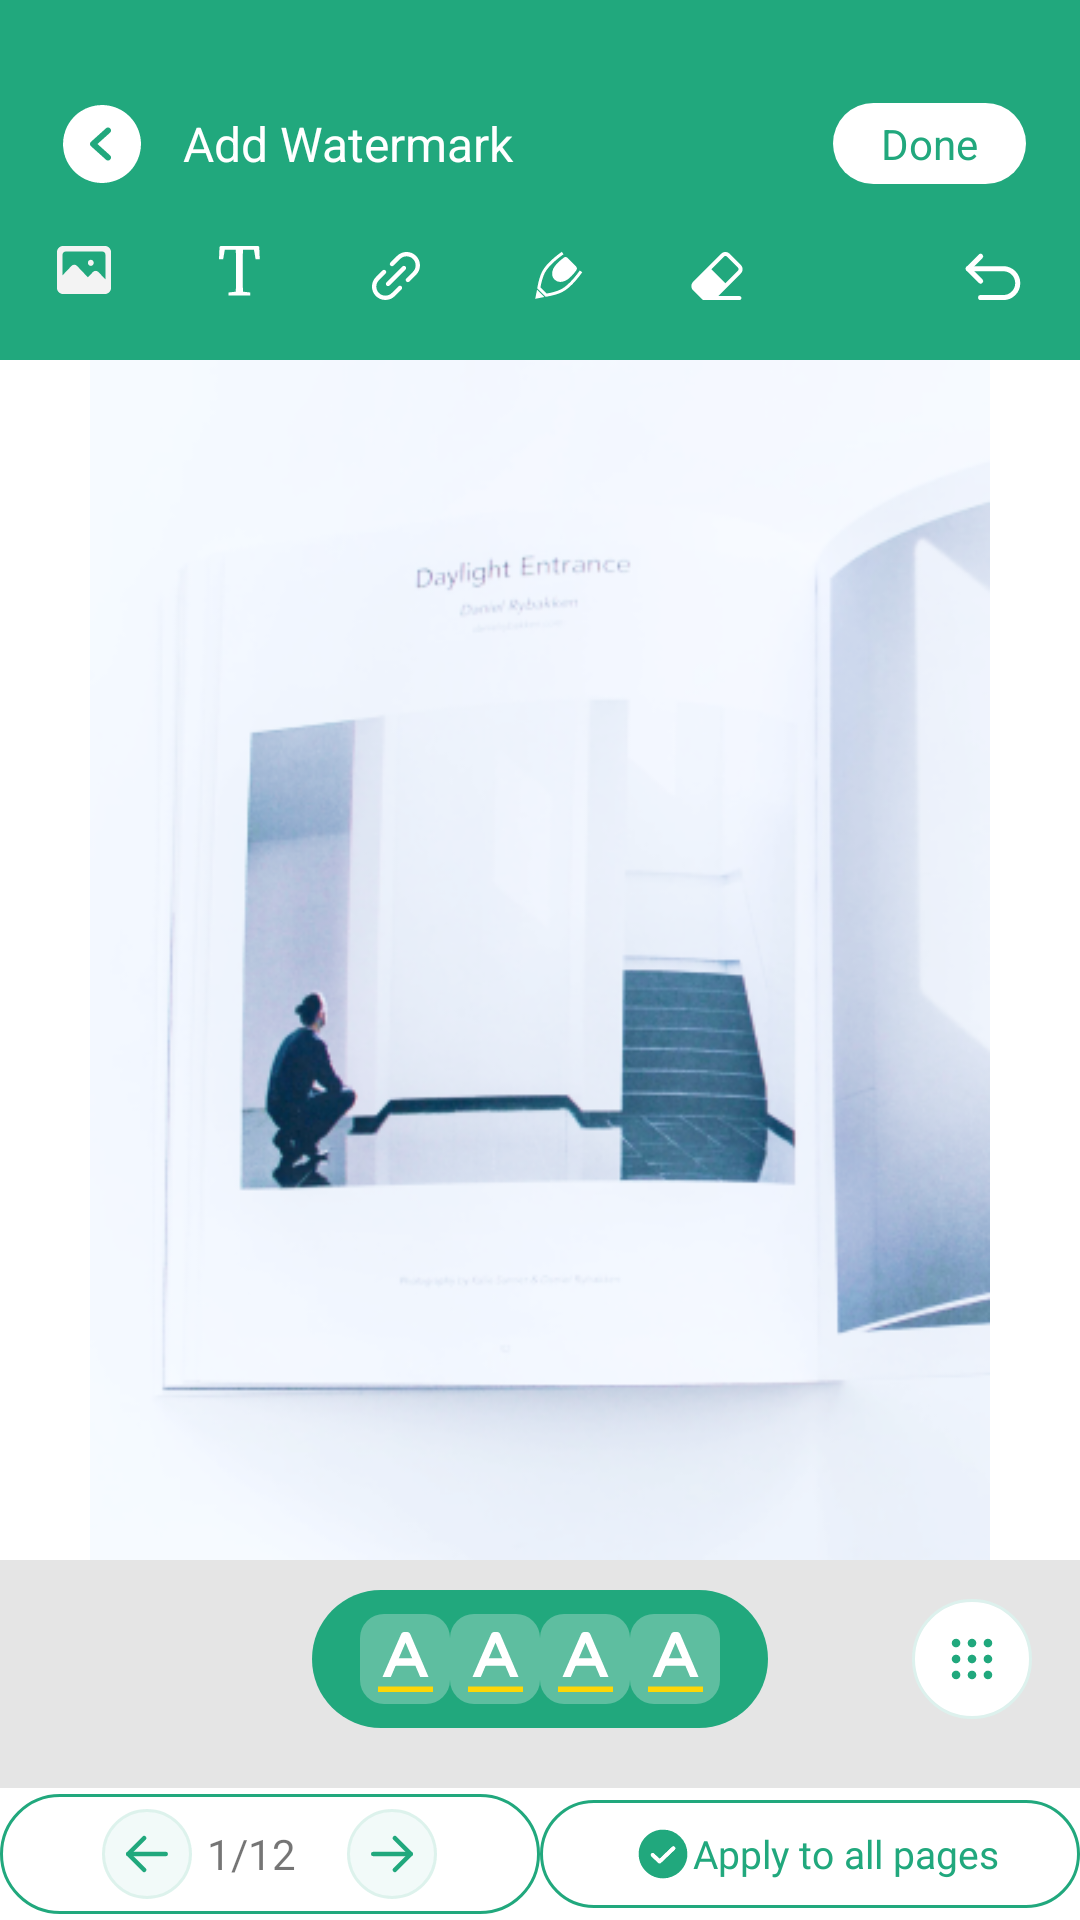

Icon bounding boxes for this 1080x1920 phone screenshot, format [left=x1, top=y1, right=x2, bottom=y2]:
attach: [left=372, top=252, right=420, bottom=300]
back: [left=63, top=105, right=141, bottom=183]
eraser: [left=691, top=252, right=743, bottom=300]
font watermark: [left=360, top=1614, right=450, bottom=1704], [left=450, top=1614, right=540, bottom=1704], [left=540, top=1614, right=630, bottom=1704], [left=630, top=1614, right=720, bottom=1704]
gallery: [left=57, top=246, right=111, bottom=294]
left: [left=102, top=1809, right=192, bottom=1899]
marker: [left=535, top=252, right=582, bottom=299]
right: [left=347, top=1809, right=437, bottom=1899]
text: [left=219, top=246, right=260, bottom=296]
undo: [left=965, top=253, right=1021, bottom=300]
